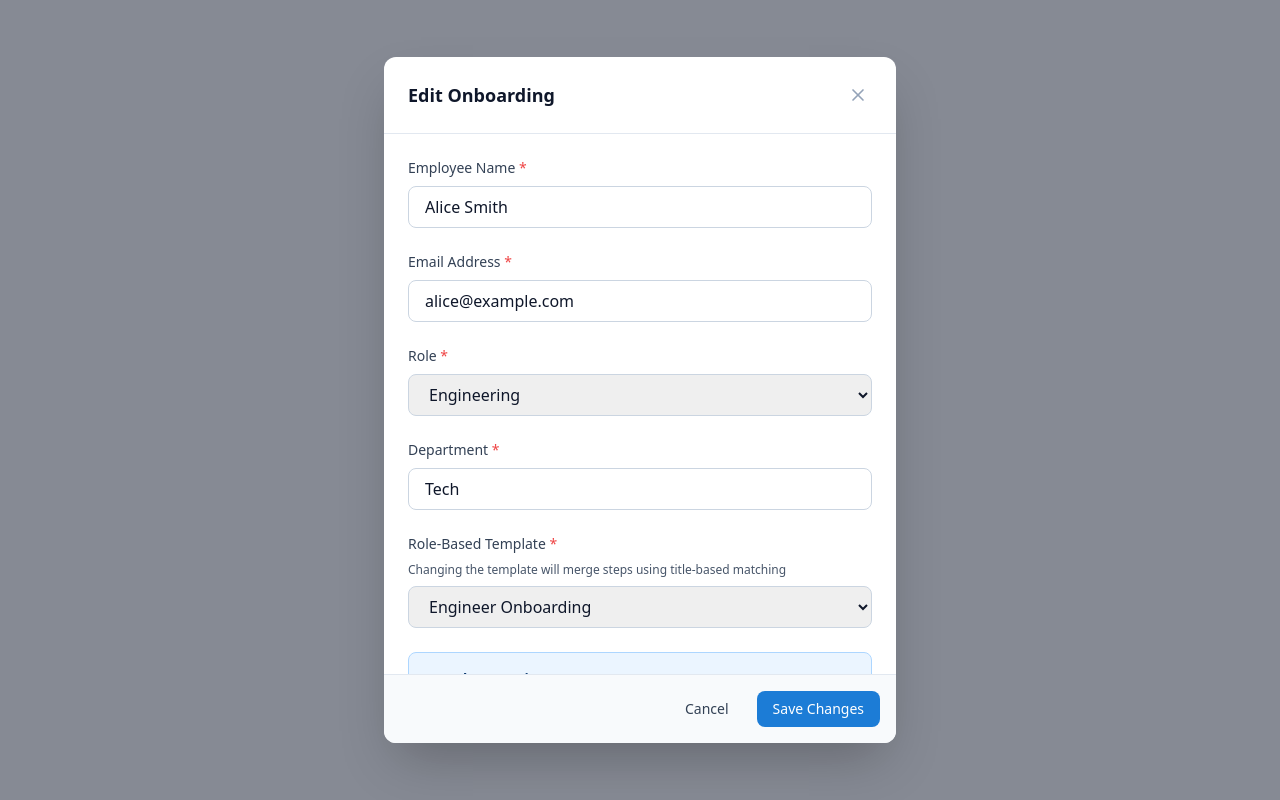
Test case: EditHireModal › Validation › shows validation error for empty department
Clear the field named "employee department" at (640, 489), box x1=408 y1=468 x2=872 y2=510
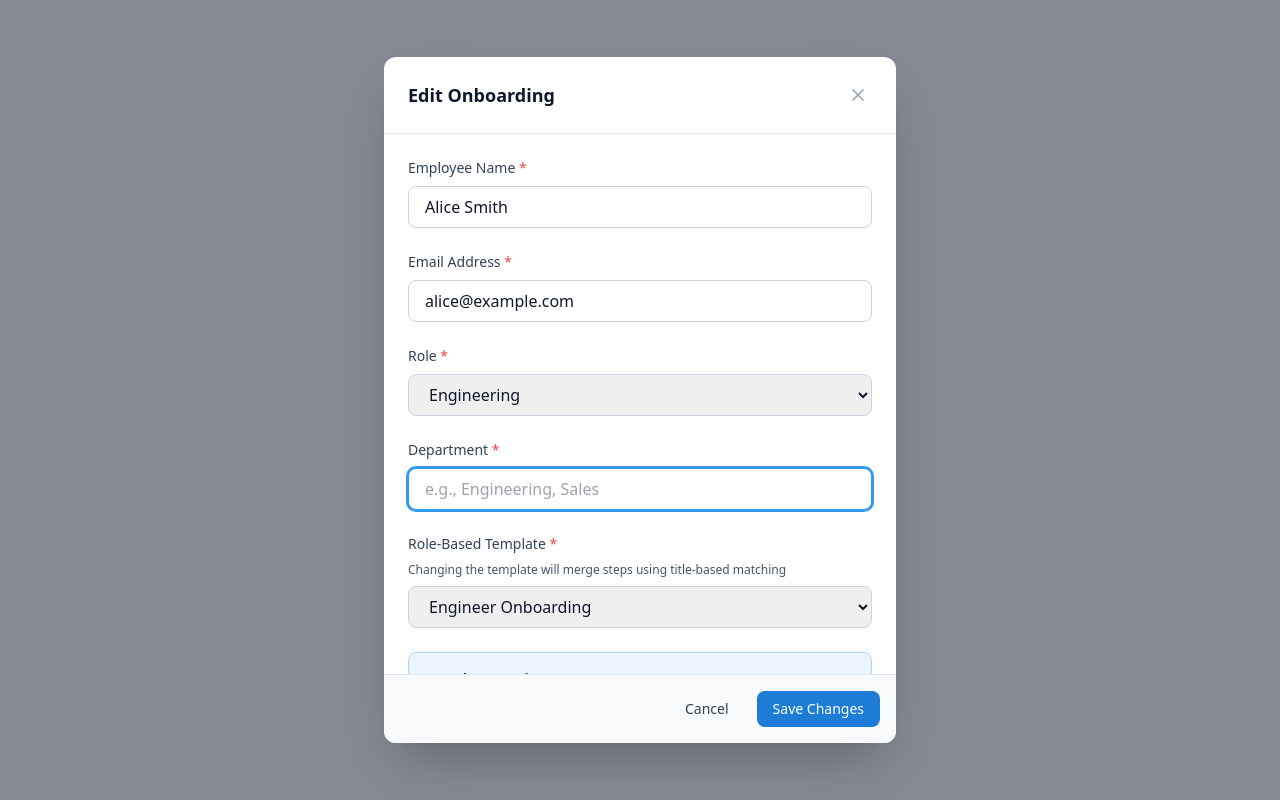
Click the button "Save Changes".
click(818, 709)  # box x1=757 y1=691 x2=880 y2=727
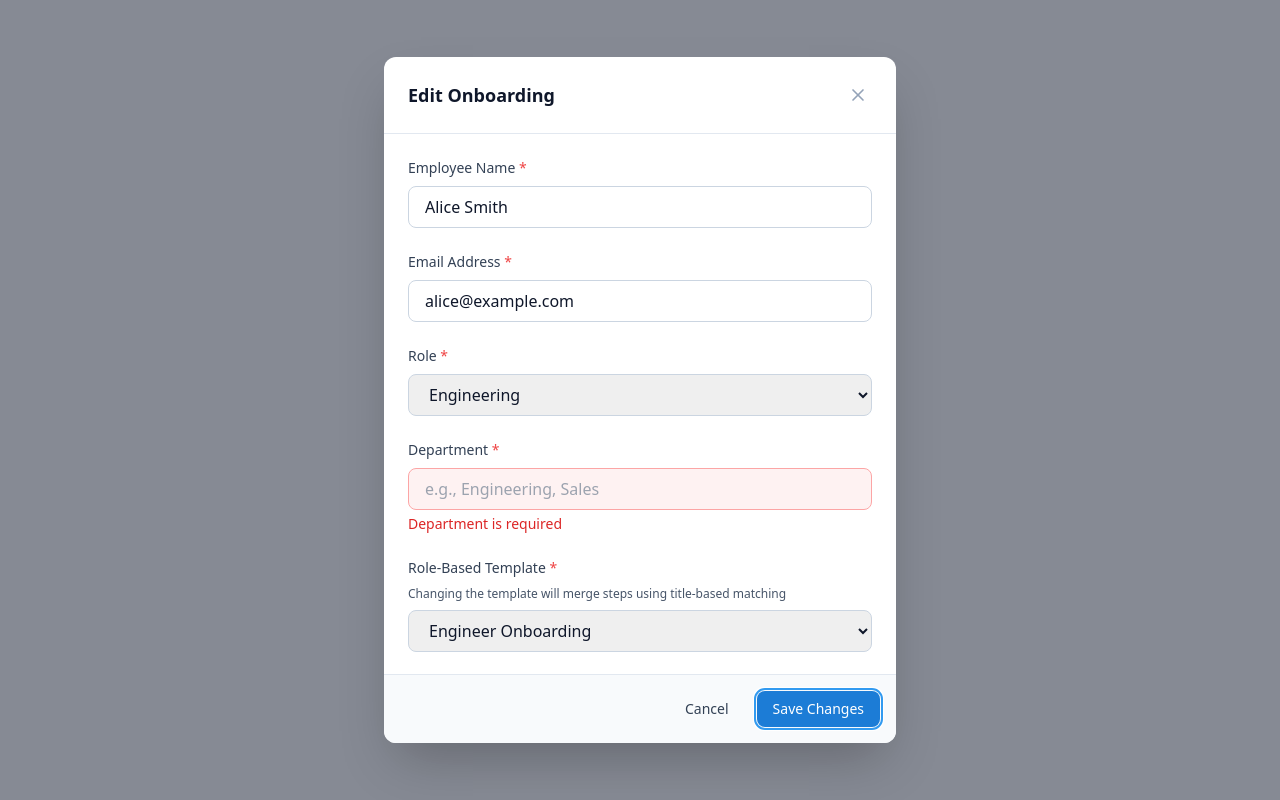
expect the text "Department is required" is shown: met, box x1=408 y1=514 x2=562 y2=533
